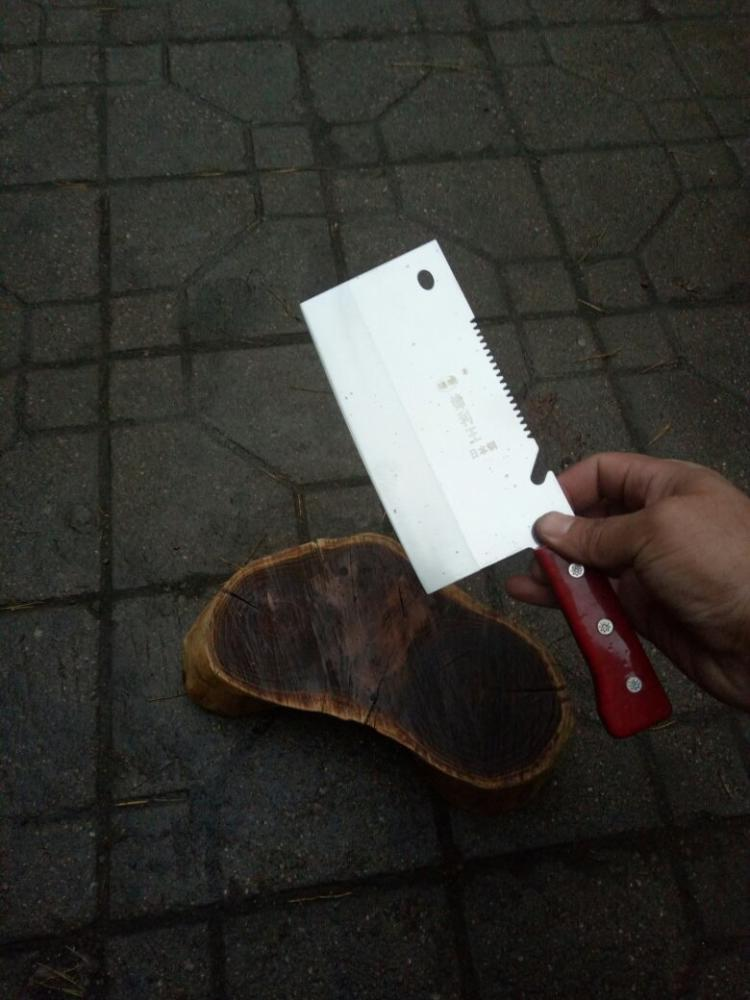knief: (288, 227, 676, 743)
